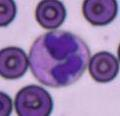N: (28, 29, 89, 86)
